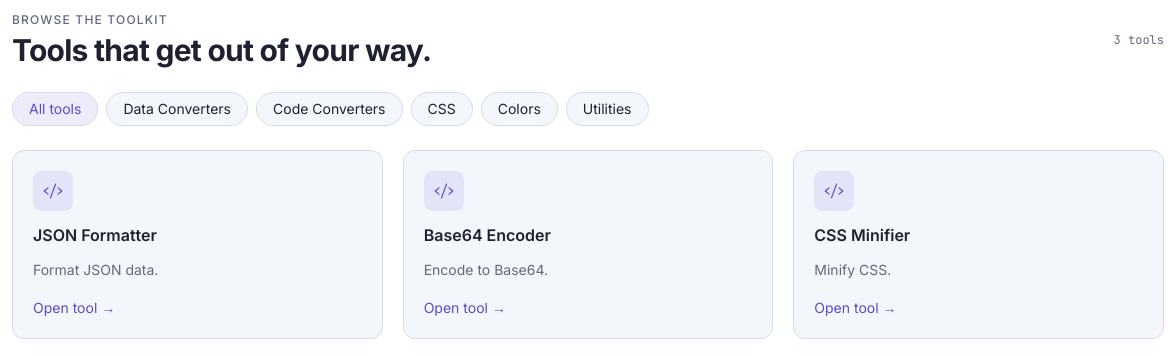
it: <ToolsFilter /> › interaction › clicking category pill filters cards
Click the button with test id "filter-pill-data-converters".
click(177, 109)  # box [106, 92, 248, 126]
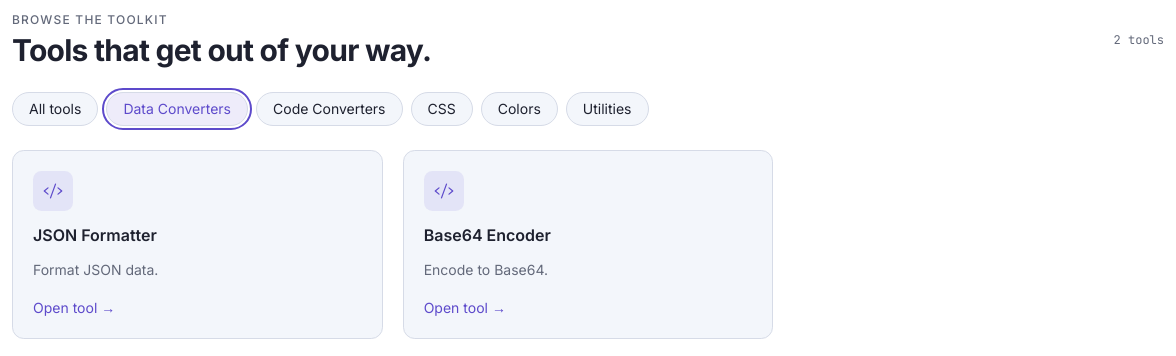
Expected: the link with test id "tool-card--json" is shown, [12, 150, 383, 339]
Result: the link with test id "tool-card--css" is gone
Result: the text with test id "tools-count" reads "2 tools" at [1114, 32, 1164, 48]
